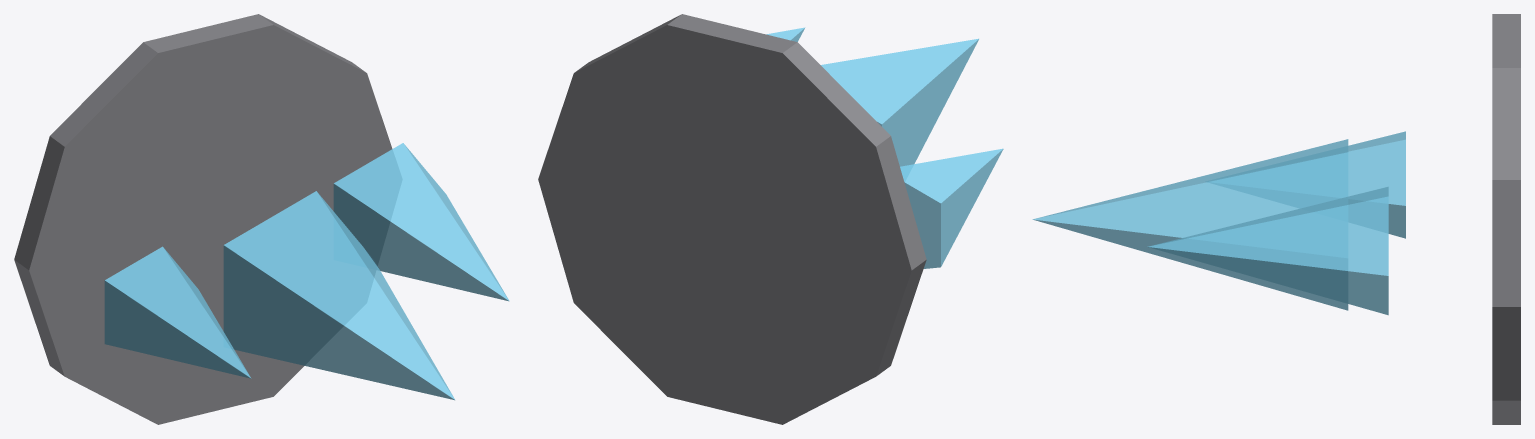
Rendered from gem_cluster_blue.glb.
3 views of the same model, side by side, from view 1: azimuth 30°, elevation 25°; view 2: azimuth 150°, elevation 25°; view 3: azimuth 270°, elevation 25° (orthographic). The views are drawn at different scales.
Visible parts, largest first — view 1: base, gem_a, gem_b, gem_c; view 2: base, gem_a, gem_c; view 3: gem_a, gem_b, base, gem_c.
Boxes of the visible parts, <box> form: base: <box>14,14,392,424</box>; gem_a: <box>223,191,454,400</box>; gem_b: <box>333,143,509,301</box>; gem_c: <box>104,246,251,378</box>; base: <box>538,14,926,424</box>; gem_a: <box>821,38,978,166</box>; gem_c: <box>900,148,1003,268</box>; gem_a: <box>1032,139,1348,310</box>; gem_b: <box>1147,186,1388,315</box>; base: <box>1492,14,1520,424</box>; gem_c: <box>1348,131,1405,238</box>.
Bounding box in the file's own units: 0.72 × 0.6848 × 0.85.
